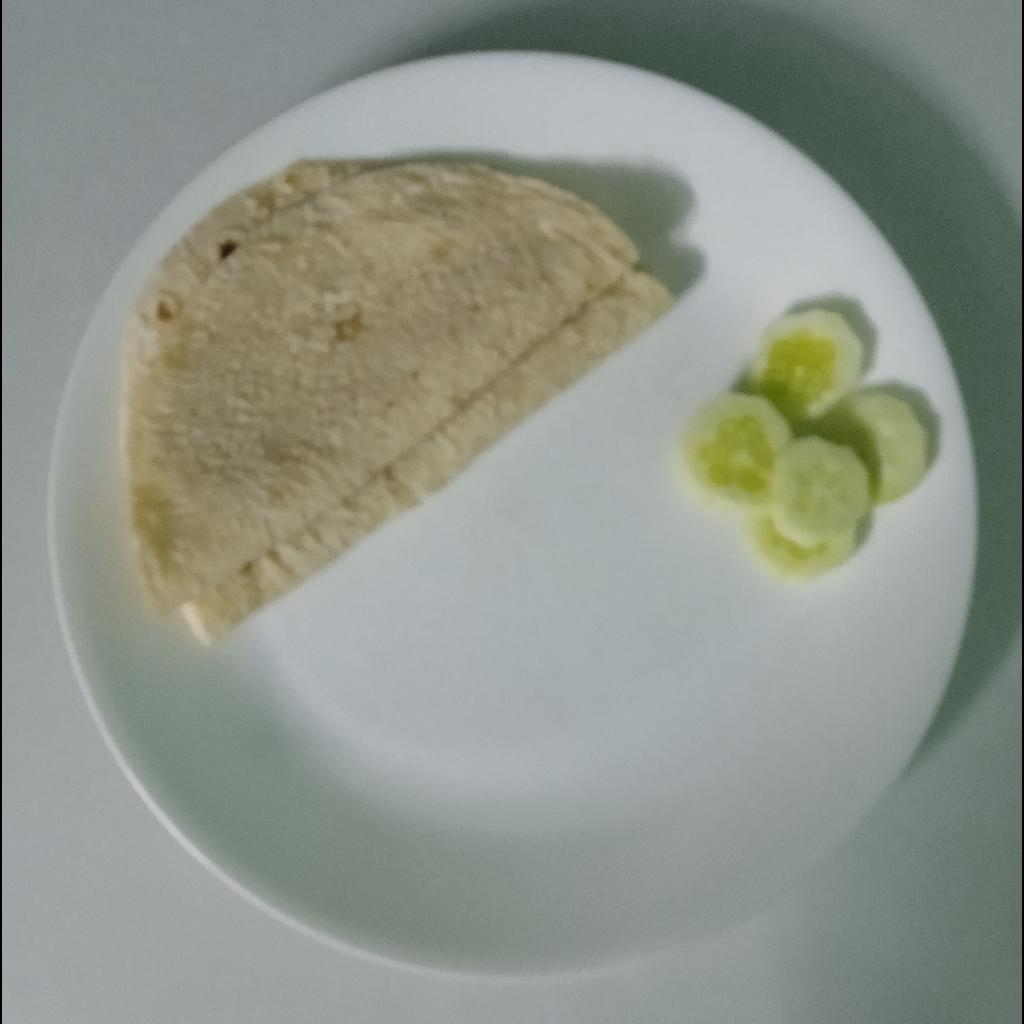cucumber: (671, 310, 937, 583)
ruti: (112, 151, 676, 649)
